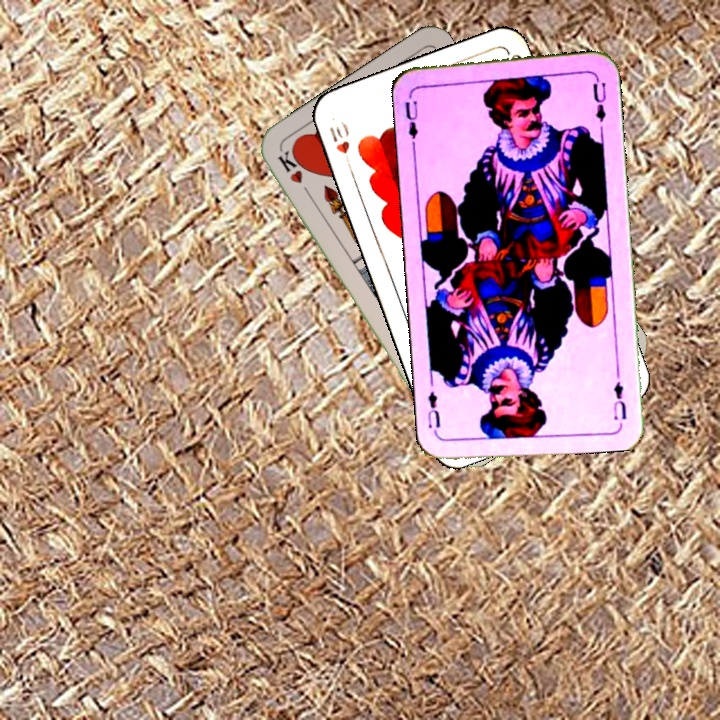EU: (609, 377, 629, 422), (401, 97, 421, 141)
H10: (325, 116, 354, 172)
HK: (273, 146, 315, 200)
